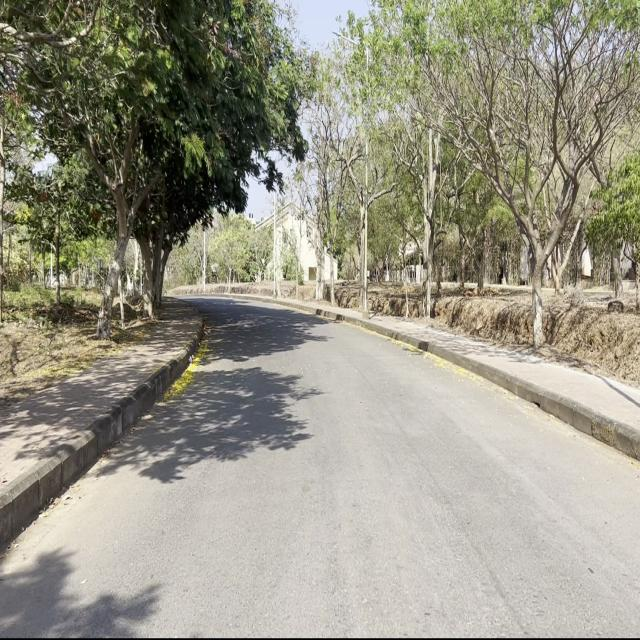Road: (4, 296, 636, 632)
